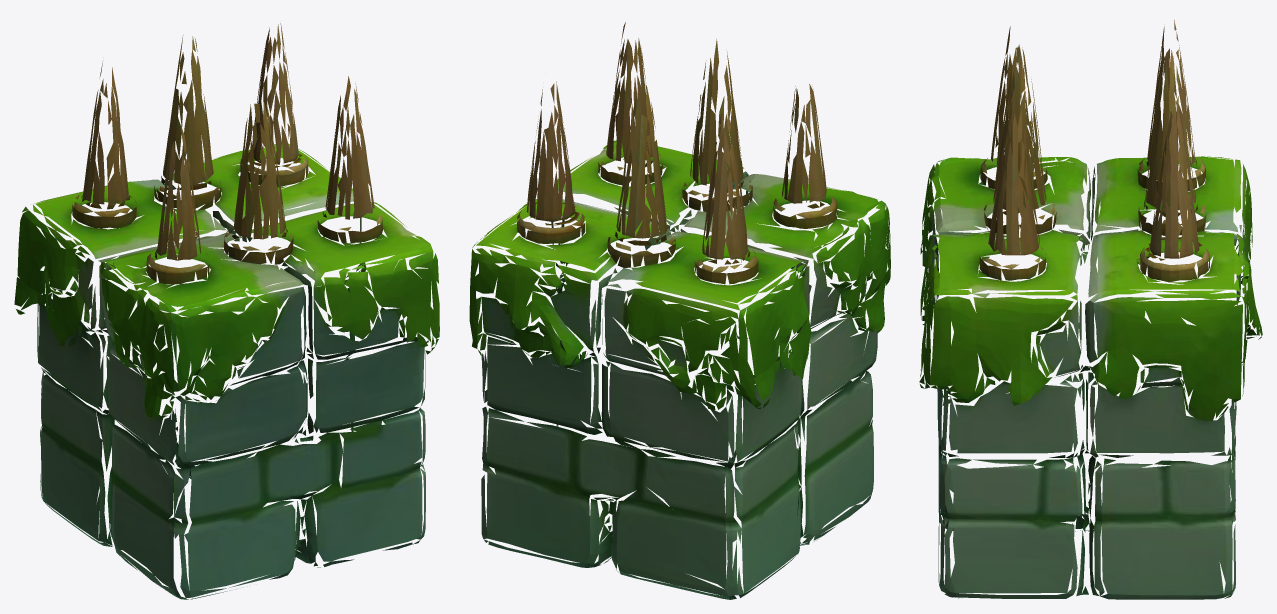
Rendered from tile_spike-stonegrassy.glb.
The picture shows the model from 3 angles, left to right: view 1: azimuth 30°, elevation 25°; view 2: azimuth 150°, elevation 25°; view 3: azimuth 270°, elevation 25°; orthographic projection. The views are drawn at different scales.
Visible parts, largest first — view 1: world.001; view 2: world.001; view 3: world.001.
Part boxes in pixels (x1,y1,x2,y2): world.001: (14,23,439,599); world.001: (469,22,890,599); world.001: (919,19,1262,599).
Size of the model in its own units: 0.639 by 0.9686 by 0.6086.
1 material, 1 textured.
